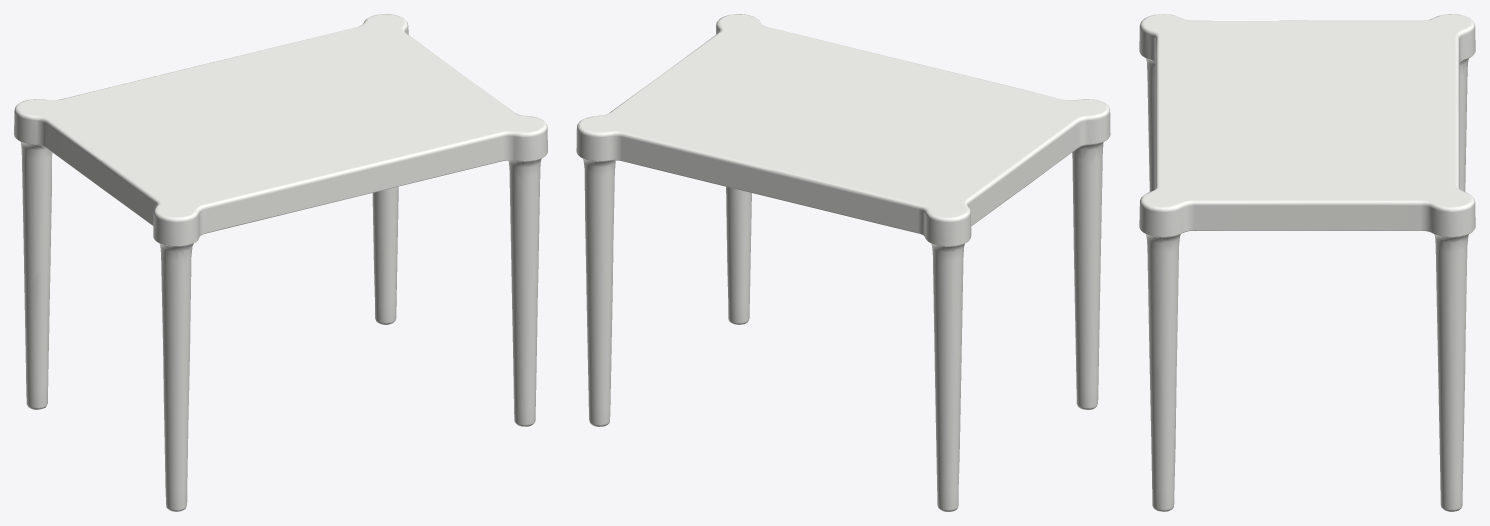
3 views of the same model, side by side, from view 1: azimuth 30°, elevation 25°; view 2: azimuth 150°, elevation 25°; view 3: azimuth 270°, elevation 25° (orthographic). The views are drawn at different scales.
Visible parts, largest first — view 1: model; view 2: model; view 3: model.
Boxes of the visible parts, x1,y1,x2,y2 form: model: (14,14,547,511); model: (576,14,1110,511); model: (1139,14,1475,511).
Bounding box in the file's own units: 0.5799 × 0.427 × 0.4199.
1 material, 1 textured.
